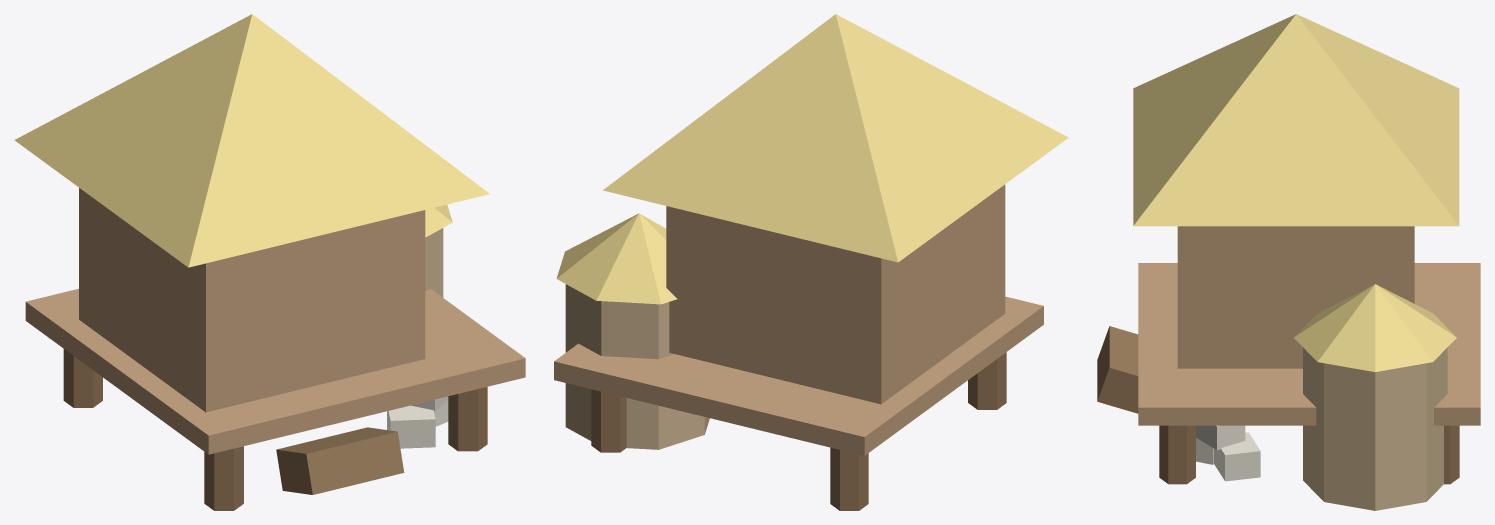
File: granary.glb
3 renders of one model, left to right at view 1: azimuth 30°, elevation 25°; view 2: azimuth 150°, elevation 25°; view 3: azimuth 270°, elevation 25°, orthographic. The views are drawn at different scales.
Visible parts, largest first — view 1: Roof, Cabin, Floor, Ramp, Stilt_0, Stilt_1, Sack_1, Stilt_2, GrainSilo, SiloLid; view 2: Roof, Cabin, Floor, GrainSilo, SiloLid, Stilt_2, Stilt_3, Stilt_0; view 3: Roof, Cabin, Floor, GrainSilo, SiloLid, Ramp, Stilt_1, Sack_0, Sack_2, Stilt_3.
Part boxes in pixels (x1=…): Roof: x1=14, y1=14, x2=489, y2=267; Cabin: x1=79, y1=188, x2=425, y2=412; Floor: x1=25, y1=288, x2=525, y2=454; Ramp: x1=276, y1=427, x2=404, y2=494; Stilt_0: x1=204, y1=446, x2=243, y2=510; Stilt_1: x1=448, y1=387, x2=487, y2=451; Sack_1: x1=387, y1=405, x2=435, y2=448; Stilt_2: x1=63, y1=349, x2=102, y2=407; GrainSilo: x1=425, y1=228, x2=443, y2=297; SiloLid: x1=425, y1=204, x2=452, y2=237; Roof: x1=603, y1=14, x2=1068, y2=262; Cabin: x1=666, y1=184, x2=1005, y2=404; Floor: x1=554, y1=296, x2=1043, y2=455; GrainSilo: x1=565, y1=284, x2=709, y2=449; SiloLid: x1=556, y1=213, x2=677, y2=304; Stilt_2: x1=830, y1=447, x2=868, y2=510; Stilt_3: x1=591, y1=389, x2=626, y2=452; Stilt_0: x1=968, y1=352, x2=1006, y2=409; Roof: x1=1133, y1=14, x2=1459, y2=226; Cabin: x1=1177, y1=226, x2=1414, y2=368; Floor: x1=1138, y1=263, x2=1480, y2=425; GrainSilo: x1=1303, y1=347, x2=1447, y2=510; SiloLid: x1=1293, y1=284, x2=1456, y2=372; Ramp: x1=1097, y1=326, x2=1138, y2=413; Stilt_1: x1=1159, y1=425, x2=1195, y2=484; Sack_0: x1=1214, y1=432, x2=1260, y2=481; Sack_2: x1=1196, y1=425, x2=1245, y2=450; Stilt_3: x1=1444, y1=425, x2=1459, y2=484.
Size of the model in its own units: 3.16 by 3.3 by 2.91.
